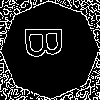B: (25, 25, 72, 59)
